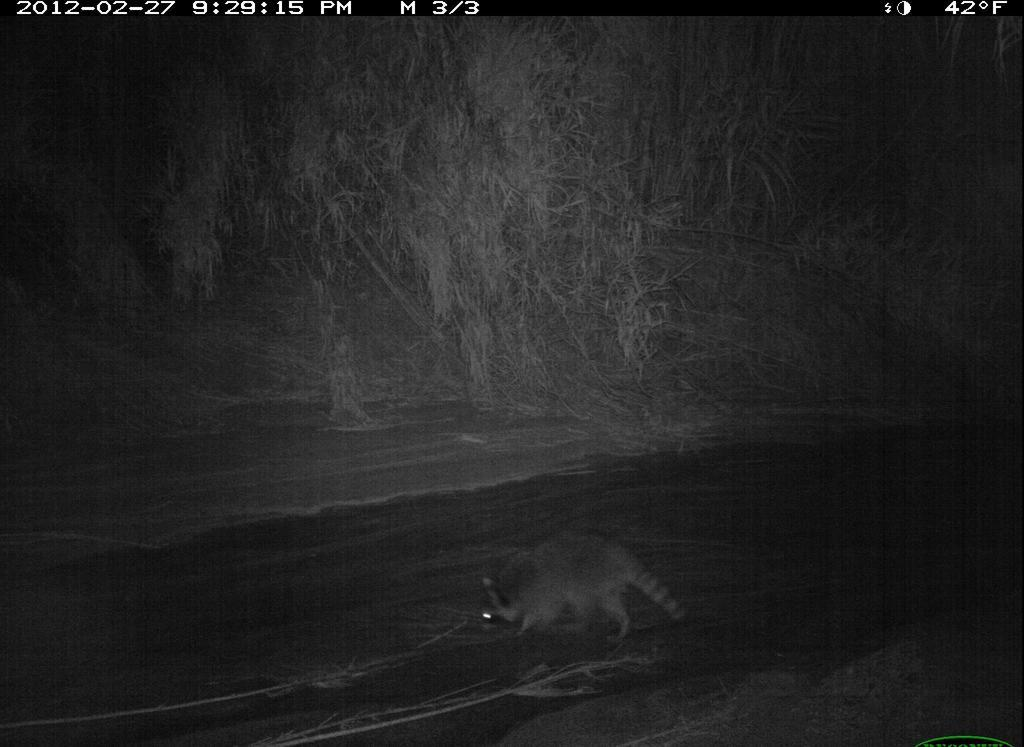raccoon: (474, 520, 694, 648)
